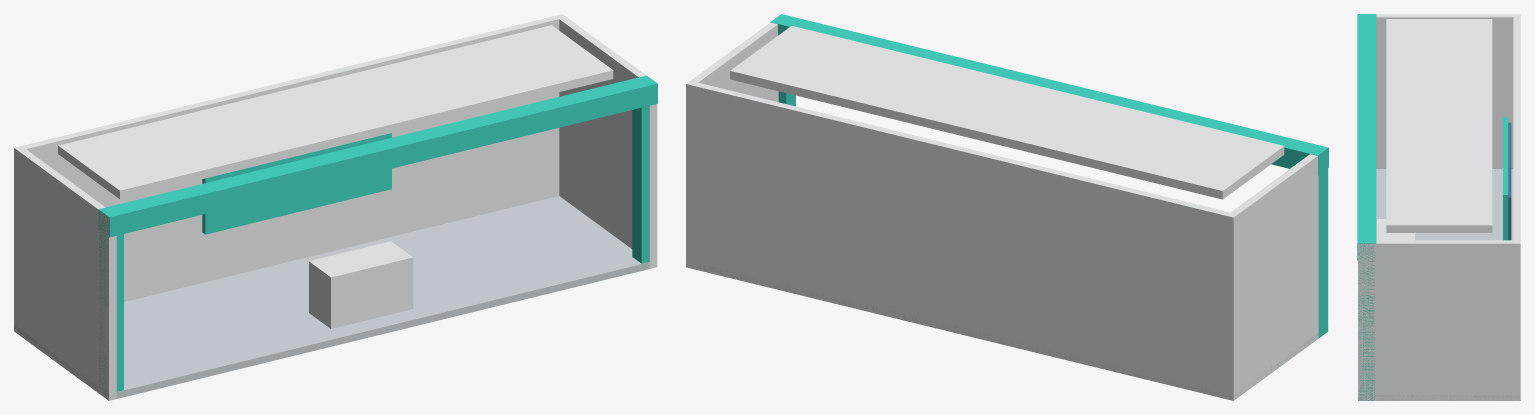
The picture shows the model from 3 angles, left to right: view 1: azimuth 30°, elevation 25°; view 2: azimuth 150°, elevation 25°; view 3: azimuth 270°, elevation 25°; orthographic projection. The views are drawn at different scales.
Parts seen in each view (by area): view 1: Exhibition Booth Concept; view 2: Exhibition Booth Concept; view 3: Exhibition Booth Concept.
Part boxes in pixels (x1,y1,x2,y2): Exhibition Booth Concept: [14, 14, 657, 400]; Exhibition Booth Concept: [686, 14, 1328, 400]; Exhibition Booth Concept: [1357, 14, 1520, 400].
Bounding box in the file's own units: 10 × 3.34 × 3.01.
